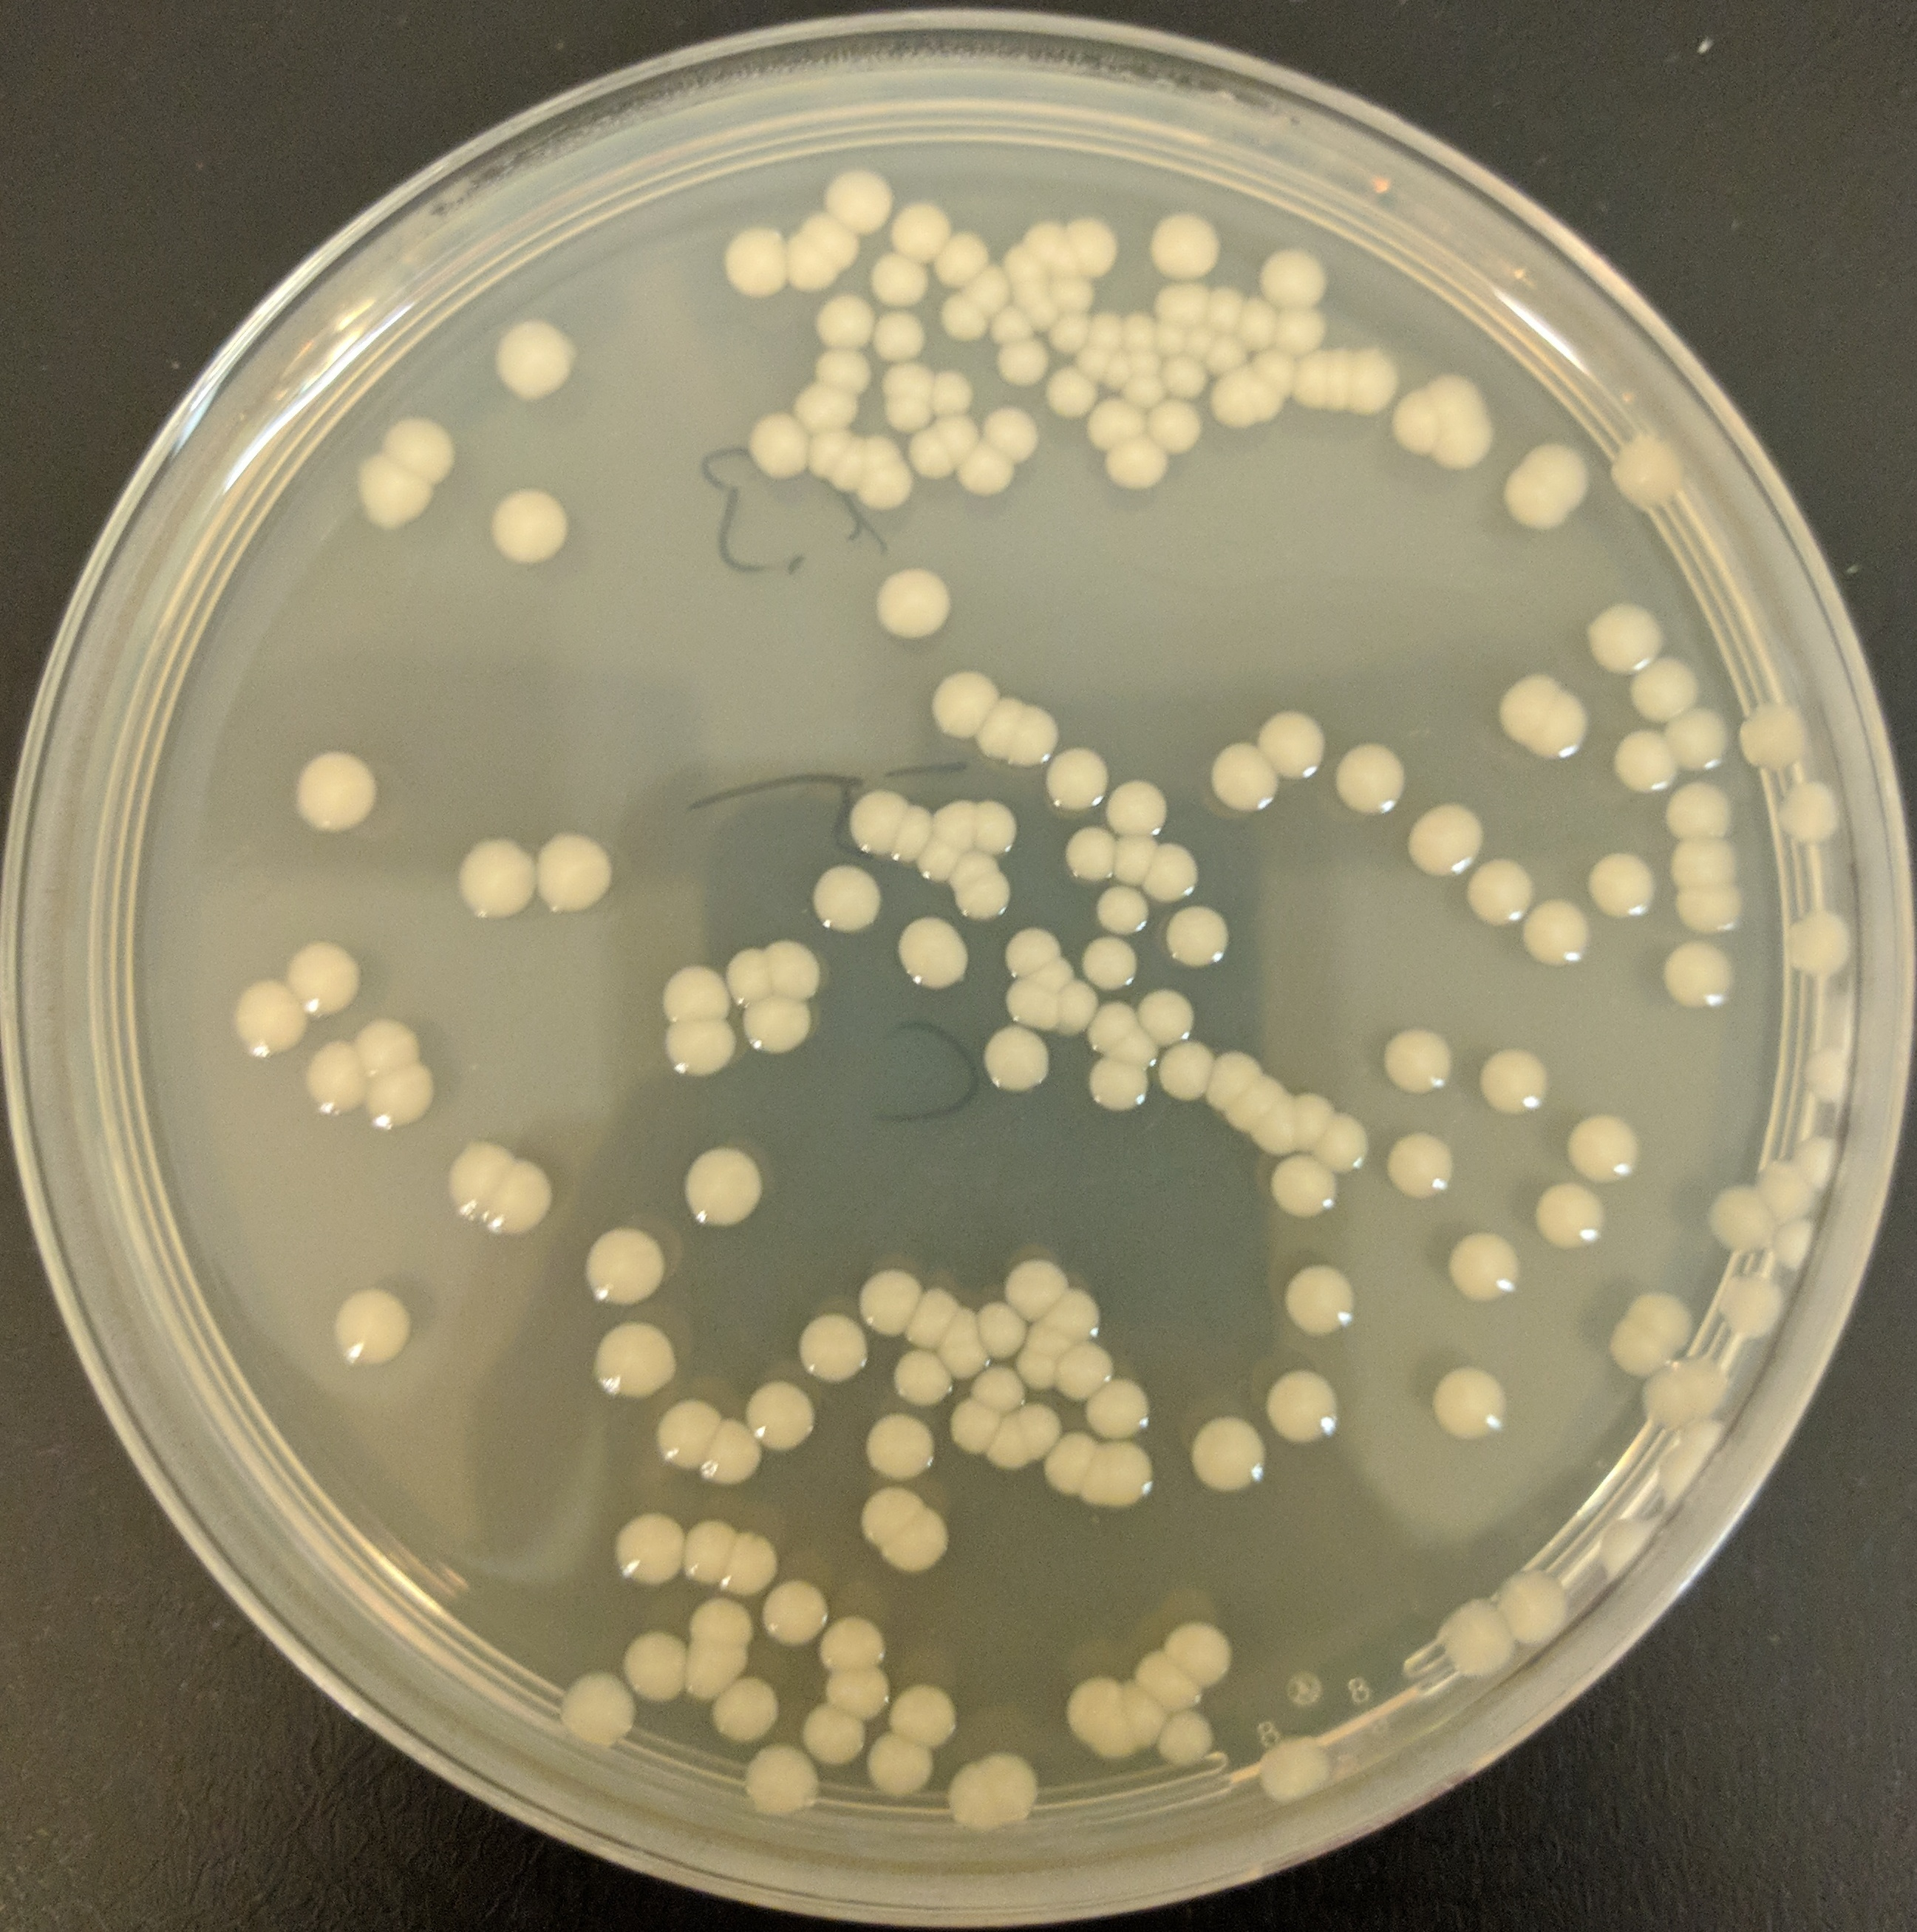sp11: (492, 307, 579, 406), (291, 746, 383, 836), (1490, 1563, 1571, 1662), (348, 450, 432, 541), (581, 1222, 669, 1308), (590, 1317, 678, 1403), (1432, 1591, 1519, 1677), (456, 833, 537, 924), (1403, 797, 1487, 883), (532, 831, 614, 919), (490, 483, 574, 567), (683, 1143, 769, 1226), (1185, 1412, 1267, 1496), (553, 1667, 637, 1749), (739, 1737, 822, 1821), (327, 1287, 413, 1368), (360, 1059, 439, 1147), (1608, 430, 1685, 520), (871, 562, 953, 645), (1427, 1361, 1510, 1444), (1253, 1728, 1334, 1811), (284, 938, 363, 1022), (1445, 1228, 1524, 1312), (1329, 739, 1410, 820), (1583, 597, 1666, 676), (298, 1033, 372, 1121), (1564, 1110, 1643, 1191), (1206, 739, 1283, 822), (442, 1138, 518, 1222), (230, 977, 309, 1056), (1262, 1366, 1339, 1447), (1280, 1259, 1361, 1337), (741, 1377, 818, 1458), (895, 913, 971, 994), (818, 163, 899, 239), (483, 1156, 556, 1238), (1473, 1043, 1552, 1119), (609, 1509, 683, 1590), (792, 1312, 874, 1384), (1146, 205, 1222, 283), (655, 1391, 725, 1474), (1770, 773, 1845, 848), (1378, 1024, 1455, 1098), (1515, 896, 1592, 970), (1459, 854, 1536, 927), (1531, 1180, 1610, 1252), (885, 1502, 953, 1584), (809, 861, 883, 936), (1662, 938, 1736, 1013), (344, 1013, 425, 1082), (707, 1672, 781, 1746), (1585, 848, 1659, 922), (864, 1410, 939, 1482), (927, 667, 999, 743), (618, 1626, 688, 1704), (1080, 1437, 1157, 1507), (1778, 906, 1856, 977), (377, 415, 456, 483), (1496, 669, 1562, 750), (720, 220, 786, 300), (865, 1727, 937, 1800), (1252, 706, 1324, 780), (1733, 699, 1806, 771), (1267, 1152, 1341, 1224), (1701, 1180, 1775, 1252), (978, 1749, 1039, 1835), (841, 785, 908, 864), (980, 1022, 1052, 1094), (1520, 688, 1590, 762), (743, 407, 809, 485), (1352, 346, 1404, 443), (760, 1577, 832, 1647), (1383, 1131, 1455, 1201), (1715, 1273, 1787, 1344), (885, 1683, 958, 1751), (741, 992, 815, 1061), (1029, 1284, 1104, 1351), (1129, 1647, 1206, 1712), (1255, 244, 1332, 309), (799, 1702, 867, 1774), (855, 1263, 922, 1337), (1624, 1287, 1698, 1354), (657, 1020, 741, 1078), (1164, 1619, 1234, 1688), (1001, 1256, 1069, 1326), (1304, 1107, 1373, 1177), (681, 1644, 753, 1711), (1627, 653, 1699, 720), (1520, 443, 1592, 509), (1504, 464, 1571, 536), (697, 1414, 762, 1488), (1062, 1672, 1127, 1746), (890, 1342, 958, 1409), (1164, 903, 1231, 971), (797, 205, 862, 276), (1669, 831, 1745, 890), (973, 687, 1032, 762), (887, 197, 953, 263), (1613, 727, 1678, 796), (1102, 436, 1174, 497), (1002, 699, 1062, 773), (853, 1488, 929, 1546), (1666, 708, 1733, 773), (1139, 836, 1201, 906), (815, 1612, 888, 1670), (948, 1746, 995, 1835), (1083, 1377, 1150, 1440), (1050, 1340, 1116, 1403), (1048, 741, 1108, 811), (660, 962, 730, 1022), (1102, 778, 1169, 840), (930, 225, 992, 292), (1664, 778, 1733, 838), (818, 1662, 888, 1719), (1045, 1423, 1097, 1500), (683, 1595, 757, 1649), (1085, 1052, 1148, 1115), (1217, 1073, 1282, 1135), (1157, 1707, 1218, 1772), (1132, 987, 1199, 1047), (902, 1282, 960, 1351), (1389, 386, 1443, 458), (1150, 274, 1213, 335), (764, 934, 823, 999), (1001, 971, 1060, 1036), (779, 228, 839, 293), (1157, 1038, 1215, 1105), (1206, 1047, 1262, 1115), (790, 376, 862, 429), (881, 364, 930, 439), (1208, 362, 1257, 437), (1669, 1356, 1731, 1416), (981, 402, 1043, 462), (1676, 882, 1748, 933), (720, 1532, 776, 1597), (1432, 416, 1497, 472), (1081, 397, 1146, 453), (685, 1517, 736, 1588), (815, 293, 876, 351), (1009, 1402, 1062, 1468), (1146, 399, 1204, 458), (1066, 214, 1122, 276), (950, 1398, 1004, 1461), (808, 344, 872, 397), (981, 1409, 1030, 1477), (1080, 934, 1138, 992), (1094, 882, 1153, 938), (855, 462, 915, 518), (966, 1361, 1029, 1414), (950, 871, 1013, 924), (723, 943, 774, 1008), (823, 427, 874, 492), (869, 307, 927, 364), (974, 1298, 1029, 1358), (957, 443, 1016, 497), (1273, 300, 1327, 360), (1418, 374, 1487, 422), (1062, 822, 1115, 883), (1001, 927, 1064, 978), (871, 248, 927, 304), (1041, 365, 1099, 420), (908, 420, 957, 483), (799, 429, 855, 483), (994, 337, 1052, 390), (971, 796, 1022, 855), (930, 409, 980, 469), (1290, 346, 1331, 416), (930, 797, 978, 855), (1055, 975, 1097, 1040), (927, 369, 980, 420), (1631, 1365, 1675, 1424), (1248, 1107, 1296, 1157), (1294, 1084, 1331, 1149), (1239, 290, 1280, 348), (1203, 279, 1248, 330), (1090, 998, 1132, 1052), (939, 297, 987, 344), (1160, 357, 1210, 402), (966, 251, 1008, 304), (864, 434, 902, 490), (985, 304, 1037, 344), (1020, 216, 1062, 265), (895, 803, 925, 868), (1048, 272, 1092, 316), (1327, 342, 1352, 418), (1203, 328, 1246, 371), (1252, 346, 1292, 392), (916, 847, 957, 892), (1610, 1319, 1647, 1366), (1248, 385, 1289, 427), (1050, 313, 1090, 355), (1122, 306, 1155, 355), (1004, 248, 1046, 285), (1088, 311, 1122, 357), (1092, 357, 1131, 393), (1152, 320, 1185, 360), (1122, 371, 1160, 404), (953, 850, 999, 878), (1009, 276, 1043, 304)
